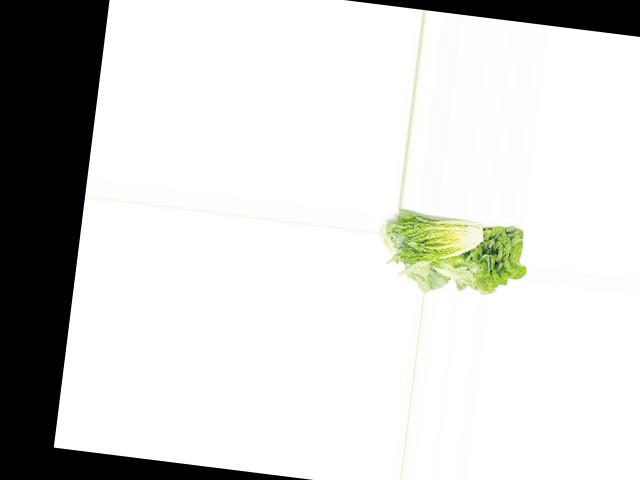lettuce: (433, 212, 529, 298)
